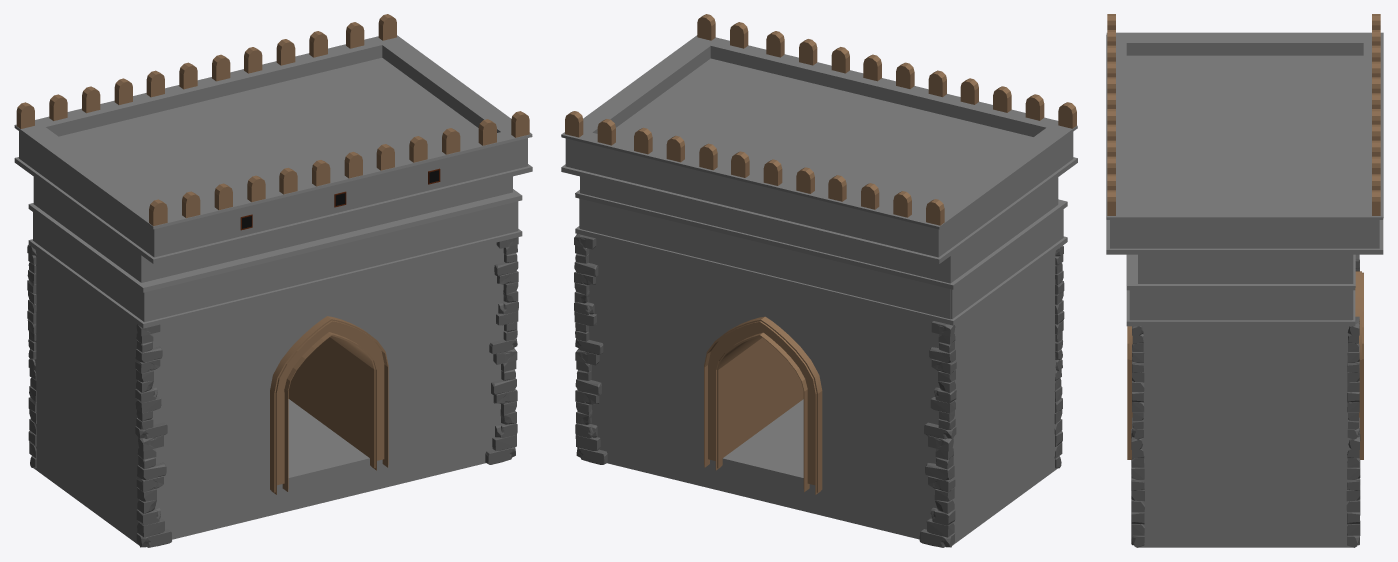
Rendered from SM_gatehouse_arabian.fbx.
3 renders of one model, left to right at view 1: azimuth 30°, elevation 25°; view 2: azimuth 150°, elevation 25°; view 3: azimuth 270°, elevation 25°, orthographic.
Visible parts, largest first — view 1: Box248; view 2: Box248; view 3: Box248.
Part boxes in pixels (x1=…): Box248: x1=14, y1=14, x2=532, y2=547; Box248: x1=561, y1=14, x2=1077, y2=547; Box248: x1=1106, y1=14, x2=1383, y2=547.
Size of the model in its own units: 611 by 388 by 546.
